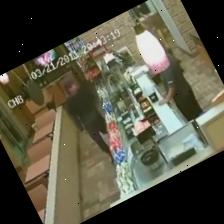person: (64, 78, 113, 162), (160, 53, 203, 120)
